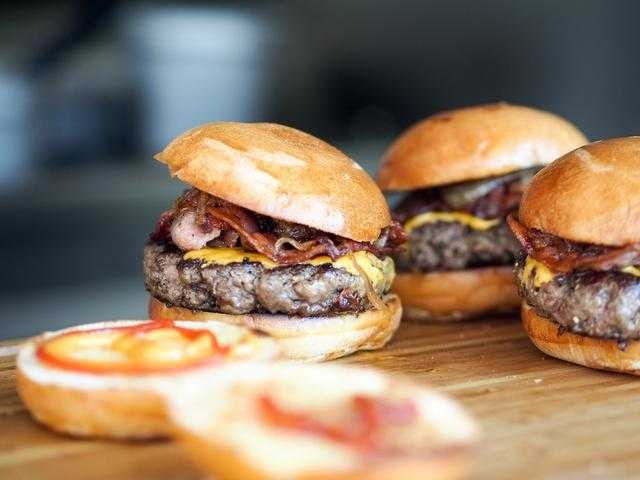hamburger: (139, 111, 399, 363), (369, 73, 592, 338), (511, 108, 640, 382)
